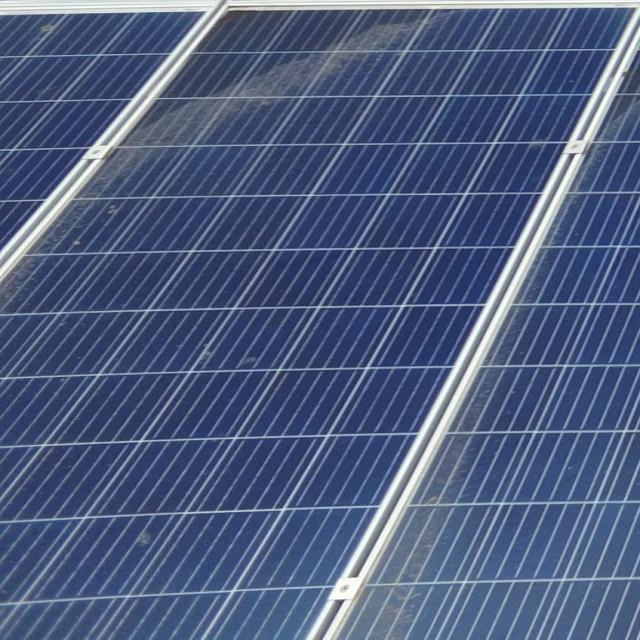Dust: (334, 412, 510, 640), (133, 0, 392, 148), (12, 133, 138, 335)
